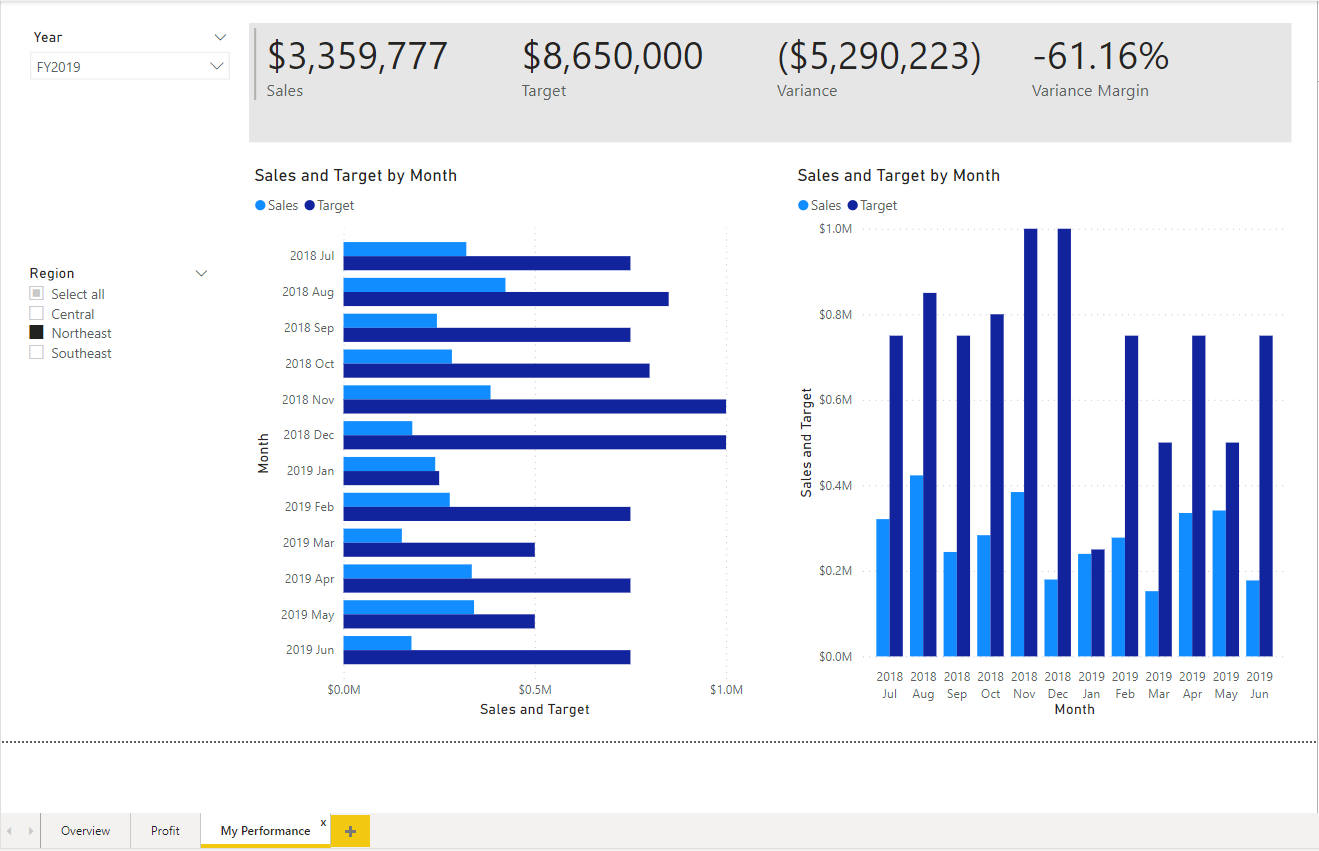

Layout of this report page (visuals, bound fields, positions):
{"tool":"powerbi","page":{"name":"My Performance","canvas":[1280,720],"ordinal":2},"visuals":[{"type":"slicer","fields":{"Values":["Date.Year"]},"box":[18.5,21.4,214,75.9],"z":0},{"type":"multiRowCard","fields":{"Values":["Sum(Sales.Sales)","Targets.Target","Targets.Variance","Targets.Variance Margin"]},"box":[241.2,21.4,1014.5,115.7],"z":1000},{"type":"clusteredBarChart","fields":{"Category":["Date.Month"],"Y":["Sum(Sales.Sales)","Targets.Target"]},"box":[241.2,159.5,486.3,541.8],"z":2000},{"type":"clusteredColumnChart","fields":{"Category":["Date.Month"],"Y":["Sum(Sales.Sales)","Targets.Target"]},"box":[769.4,159.5,486.3,541.8],"z":3000},{"type":"slicer","fields":{"Values":["Region.Region"]},"box":[14.6,250.9,199.4,449.4],"z":4000}]}

Visuals, with their boxes on the page's 1280x720 design canvas (x1, y1, x2, y2). These are canvas units, not pixel positions in the 1319x851 screenshot, which may show the page scaled, cropped or inside an application window:
slicer - Date.Year: bbox(18, 21, 232, 97)
multiRowCard - Sum(Sales.Sales) x Targets.Target: bbox(241, 21, 1256, 137)
clusteredBarChart - Date.Month x Sum(Sales.Sales): bbox(241, 160, 728, 701)
clusteredColumnChart - Date.Month x Sum(Sales.Sales): bbox(769, 160, 1256, 701)
slicer - Region.Region: bbox(15, 251, 214, 700)
